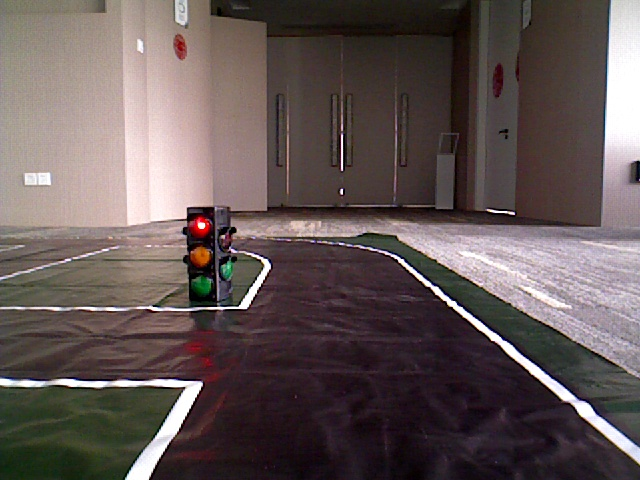red: (186, 205, 215, 299)
